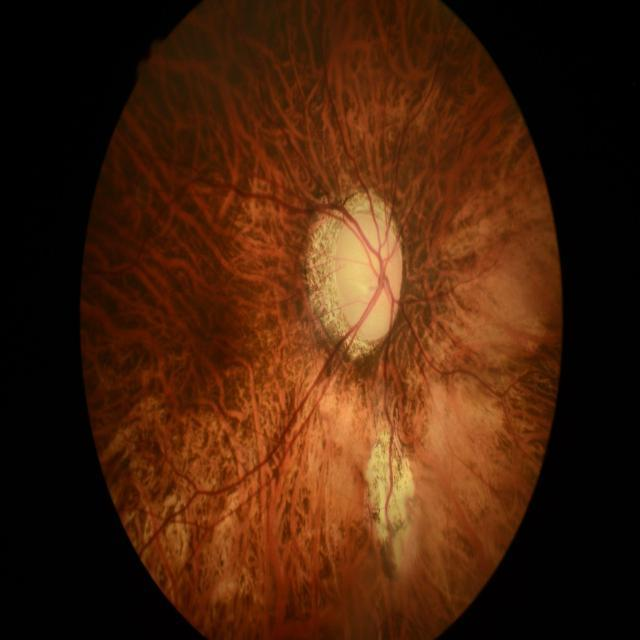cup: (344, 220, 396, 334)
disk: (334, 211, 402, 346)
